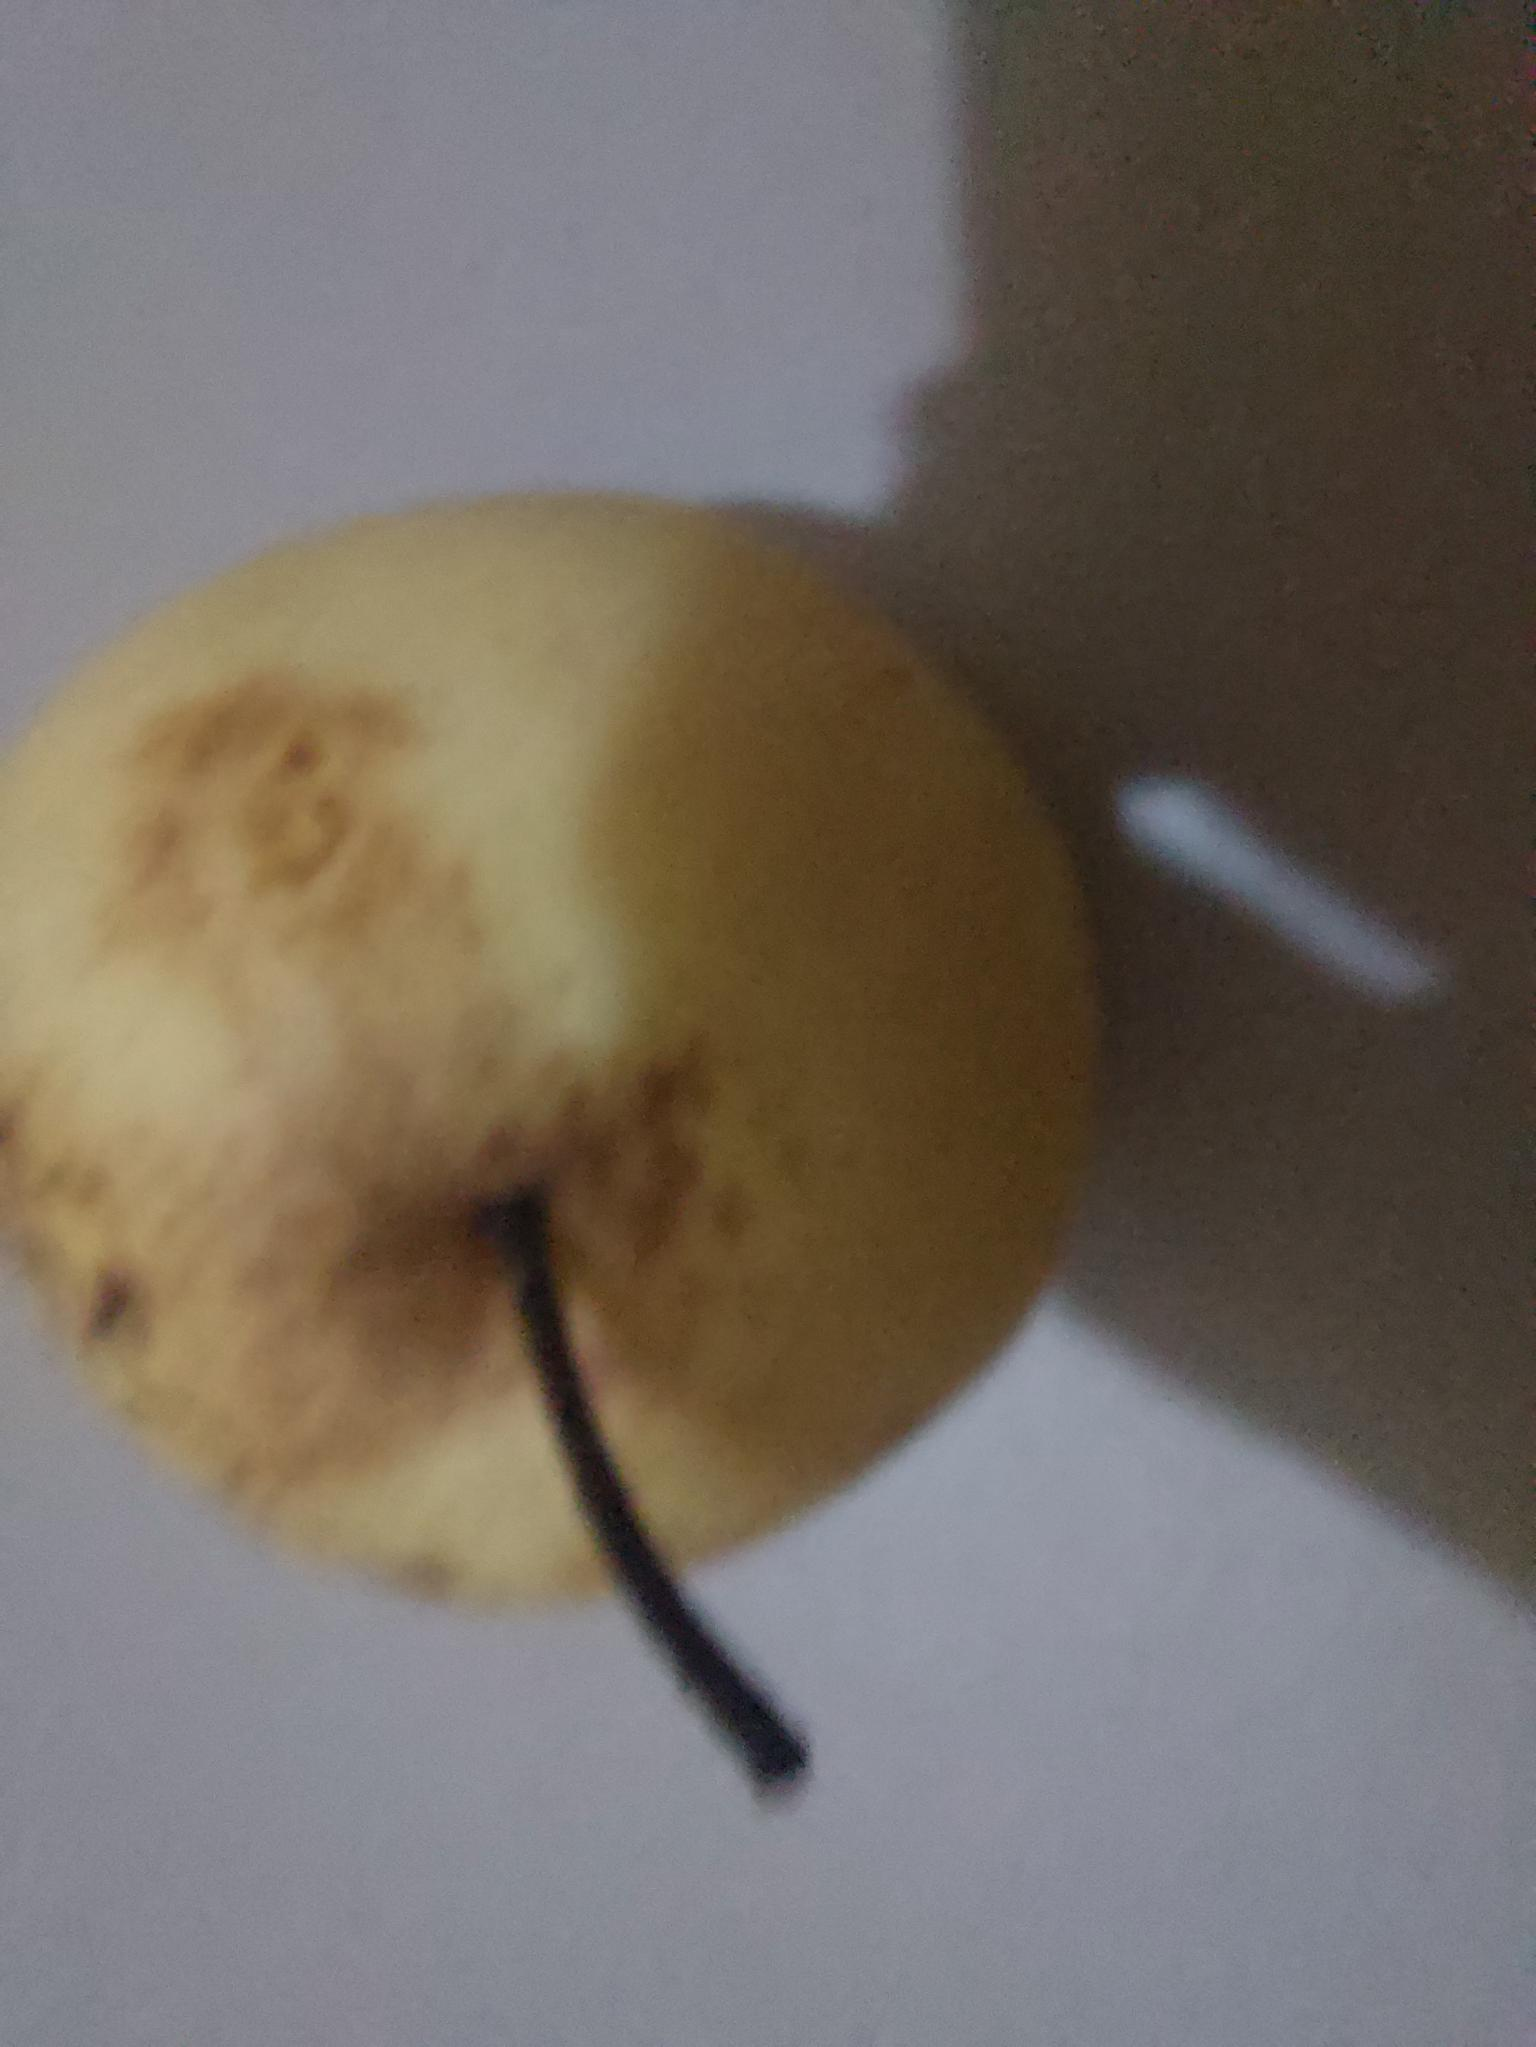Bad Pear: (0, 513, 1115, 1616)
